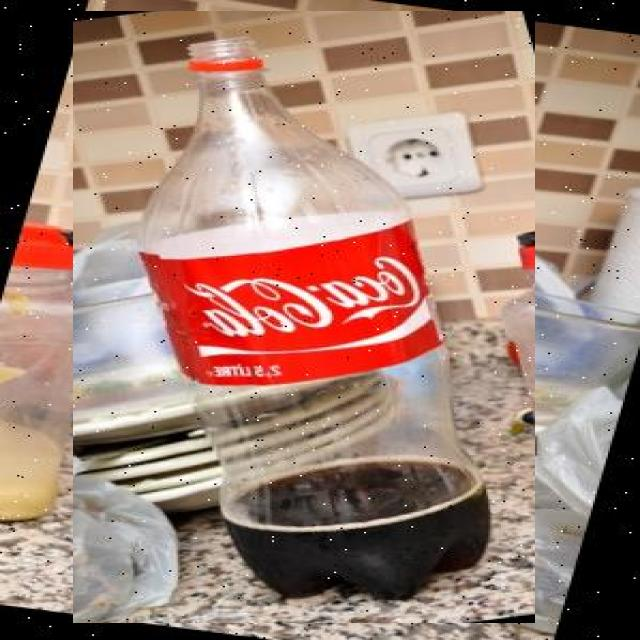coca-cola: (73, 11, 535, 623)
